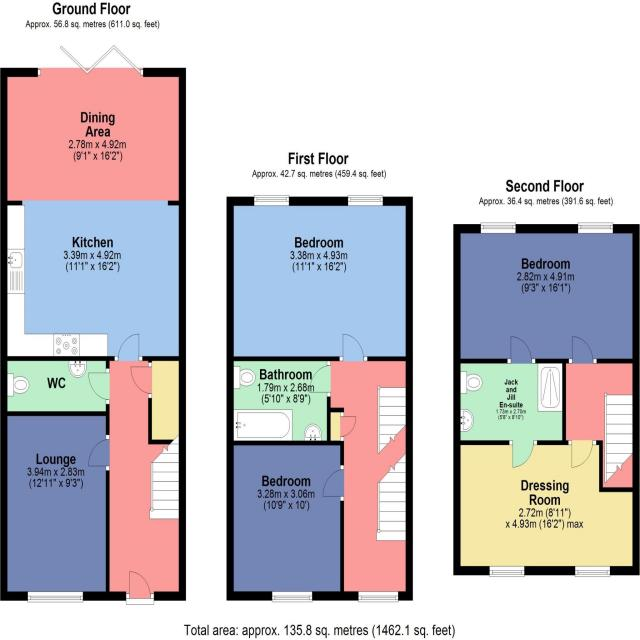DOOR: (125, 570, 155, 605), (87, 434, 110, 472), (338, 333, 368, 361), (322, 464, 344, 502), (309, 360, 331, 398), (88, 367, 110, 405), (568, 336, 597, 364), (509, 440, 538, 468), (507, 335, 536, 363), (114, 333, 143, 361)
ROOM: (0, 44, 186, 361), (226, 195, 413, 361), (453, 222, 640, 364), (0, 411, 110, 602), (226, 440, 344, 603)
WINDOW: (568, 440, 597, 468), (27, 591, 84, 603), (271, 591, 313, 603), (358, 591, 399, 603), (577, 222, 614, 234), (480, 222, 516, 234), (489, 565, 525, 577), (347, 195, 383, 206), (575, 566, 610, 577), (254, 195, 289, 206)
